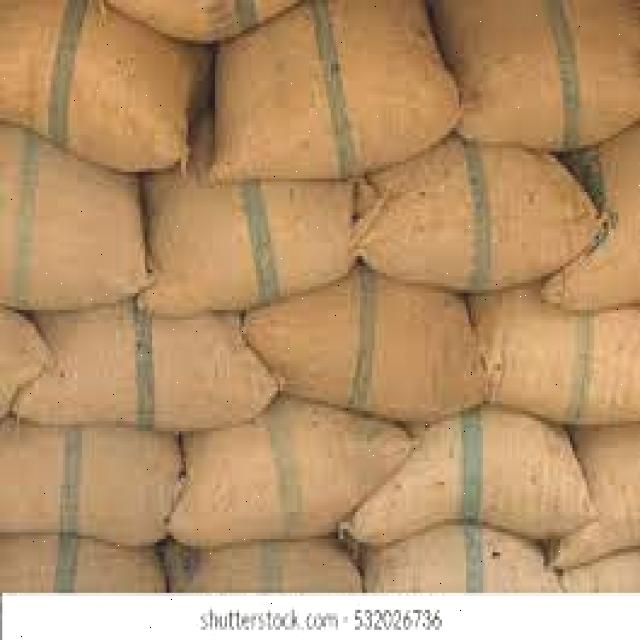sack: (204, 0, 462, 190), (352, 143, 608, 303), (341, 398, 598, 551), (169, 398, 411, 559), (136, 161, 358, 313), (243, 283, 480, 420), (11, 311, 283, 430), (0, 0, 186, 174), (452, 0, 638, 145), (0, 137, 151, 315), (0, 420, 185, 535), (480, 289, 640, 421), (359, 521, 574, 593), (548, 426, 640, 575), (0, 539, 169, 593)
